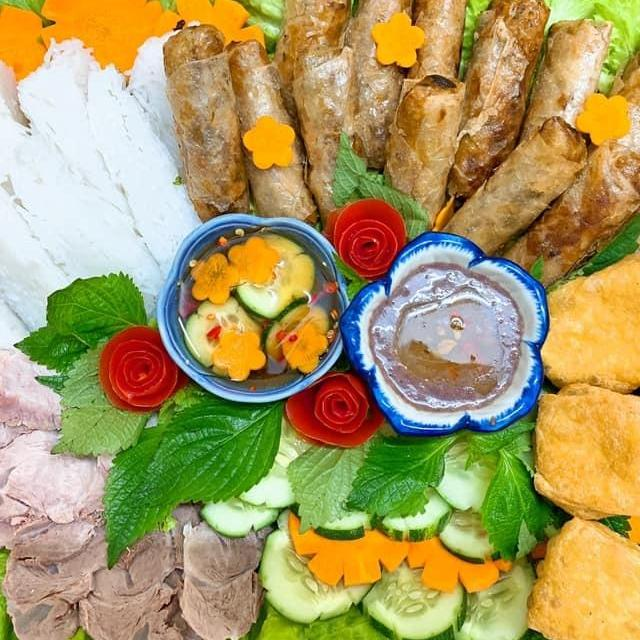bun: (0, 19, 210, 366)
bun dau: (0, 0, 640, 640)
cha gio: (416, 9, 640, 289), (155, 15, 326, 236), (271, 0, 425, 240), (444, 0, 562, 218), (384, 0, 471, 246)
dau hu: (516, 362, 640, 534), (519, 225, 640, 397), (520, 513, 640, 640)
thit heo: (0, 485, 132, 640), (0, 422, 134, 570), (73, 497, 206, 640), (174, 509, 278, 640), (0, 342, 84, 495)
